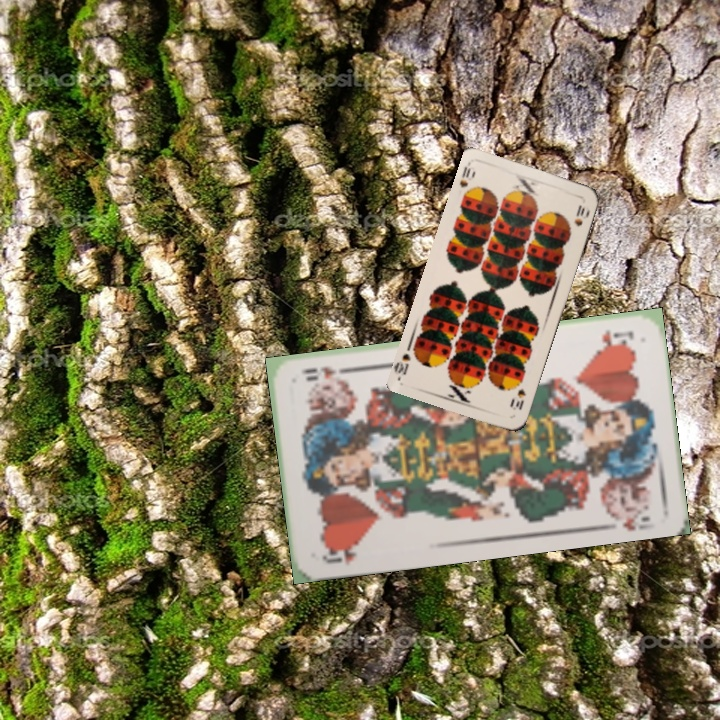HO: (318, 540, 362, 567), (598, 325, 637, 349)
S10: (508, 384, 528, 412), (455, 160, 473, 190)
